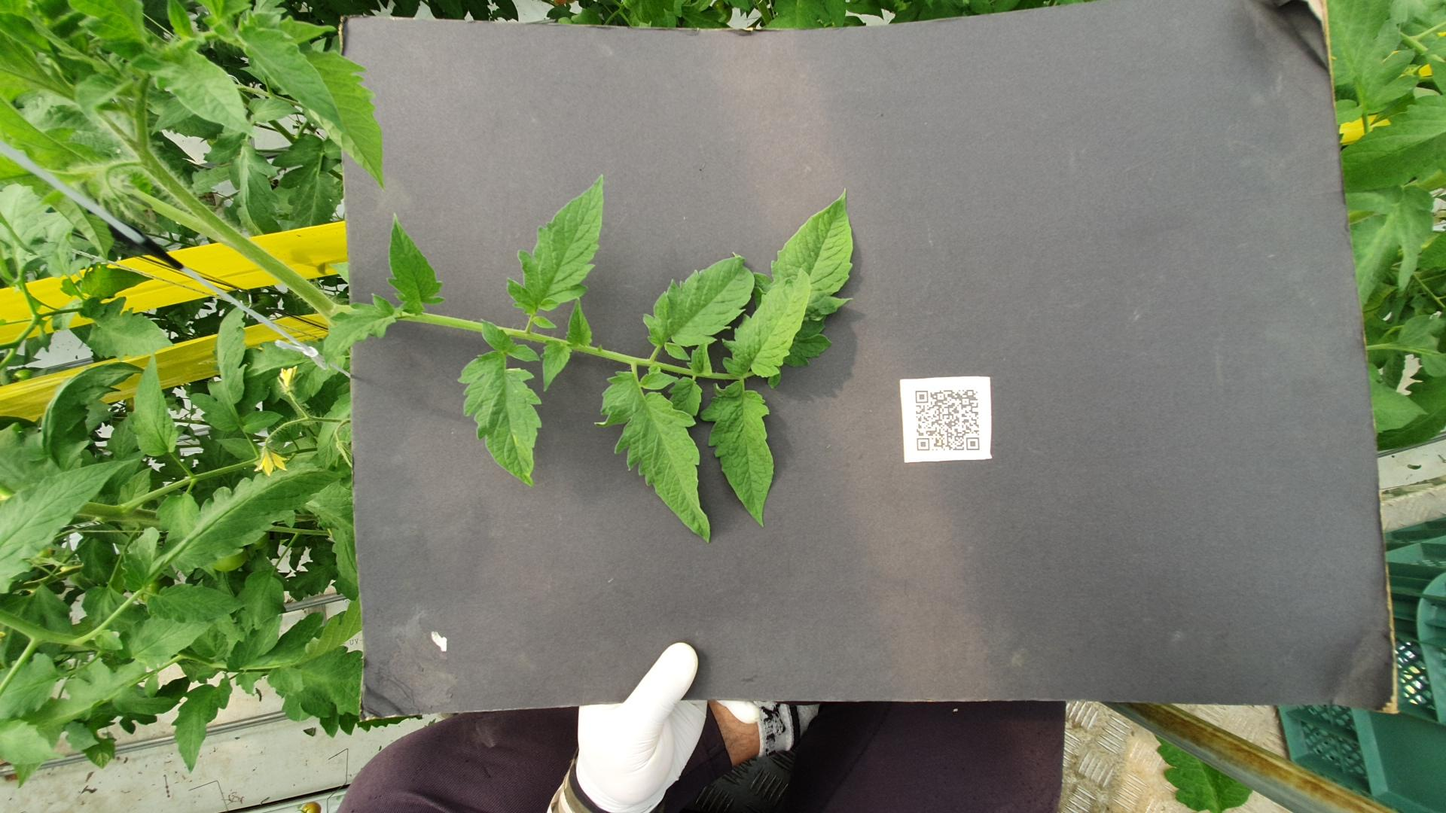Healthy: (754, 423, 1135, 487), (1111, 148, 1420, 214), (482, 334, 786, 400), (425, 93, 620, 195), (391, 0, 633, 78), (860, 283, 1139, 340), (586, 256, 878, 305), (1206, 128, 1401, 195), (802, 361, 1000, 424), (673, 106, 902, 159), (606, 22, 802, 82), (1226, 744, 1446, 797), (1102, 751, 1280, 813), (250, 125, 393, 202), (507, 393, 769, 435), (769, 405, 970, 457), (1193, 84, 1368, 143), (1035, 152, 1209, 192), (884, 216, 1070, 251), (68, 95, 241, 131), (794, 179, 926, 224), (808, 48, 918, 99), (630, 73, 819, 101), (263, 66, 356, 120), (1025, 131, 1197, 158), (339, 82, 408, 139), (903, 44, 982, 86), (85, 0, 167, 37), (614, 177, 749, 198), (393, 69, 511, 90), (1226, 139, 1273, 168), (706, 375, 774, 395)
